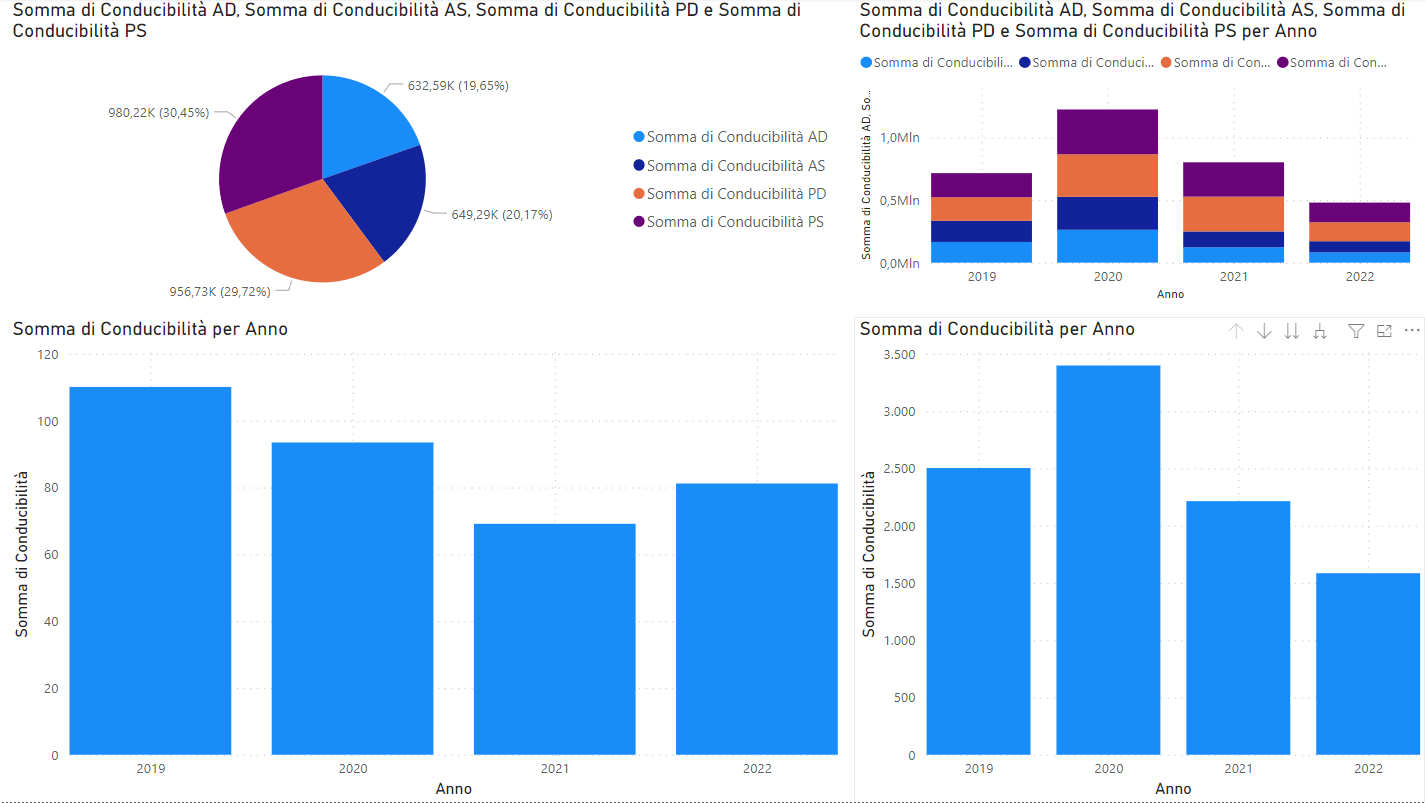

This screenshot's page, from the dashboard's own definition file:
{"tool":"powerbi","page":{"name":"Conducibilità","canvas":[1280,720],"ordinal":1},"visuals":[{"type":"pieChart","fields":{"Y":["Sum(Informazioni_generali.Conducibilità AD)","Sum(Informazioni_generali.Conducibilità AS)","Sum(Informazioni_generali.Conducibilità PD)","Sum(Informazioni_generali.Conducibilità PS)"]},"box":[9.5,0,749,285.6],"z":0},{"type":"columnChart","fields":{"Category":["Informazioni_generali.Anno.Variazione.Gerarchia data.Anno","Informazioni_generali.Anno.Variazione.Gerarchia data.Trimestre","Informazioni_generali.Anno.Variazione.Gerarchia data.Mese","Informazioni_generali.Anno.Variazione.Gerarchia data.Giorno"],"Y":["Sum(Informazioni_generali.Conducibilità AD)","Sum(Informazioni_generali.Conducibilità AS)","Sum(Informazioni_generali.Conducibilità PD)","Sum(Informazioni_generali.Conducibilità PS)"]},"box":[768,0,502.5,276.1],"z":1000},{"type":"columnChart","fields":{"Category":["Informazioni_per_animale_univoc.Anno.Variazione.Gerarchia data.Anno","Informazioni_per_animale_univoc.Anno.Variazione.Gerarchia data.Trimestre","Informazioni_per_animale_univoc.Anno.Variazione.Gerarchia data.Mese","Informazioni_per_animale_univoc.Anno.Variazione.Gerarchia data.Giorno"],"Y":["Sum(Informazioni_per_animale_univoc.Conducibilità)"]},"box":[768,285.6,512,435],"z":2000},{"type":"columnChart","fields":{"Category":["Informazioni_per_animale_totali.Anno.Variazione.Gerarchia data.Anno","Informazioni_per_animale_totali.Anno.Variazione.Gerarchia data.Trimestre","Informazioni_per_animale_totali.Anno.Variazione.Gerarchia data.Mese","Informazioni_per_animale_totali.Anno.Variazione.Gerarchia data.Giorno"],"Y":["Sum(Informazioni_per_animale_totali.Conducibilità)"]},"box":[9.5,285.6,749,435],"z":3000}]}

Visuals, with their boxes in screenshot pixels (x1, y1, x2, y2), scaled from the page's 1280x720 canvas onto the 1425x803 screenshot:
pieChart - Sum(Informazioni_generali.Conducibilità AD) x Sum(Informazioni_generali.Conducibilità AS): {"left": 11, "top": 0, "right": 844, "bottom": 319}
columnChart - Informazioni_generali.Anno.Variazione.Gerarchia data.Anno x Informazioni_generali.Anno.Variazione.Gerarchia data.Trimestre: {"left": 855, "top": 0, "right": 1414, "bottom": 308}
columnChart - Informazioni_per_animale_univoc.Anno.Variazione.Gerarchia data.Anno x Informazioni_per_animale_univoc.Anno.Variazione.Gerarchia data.Trimestre: {"left": 855, "top": 319, "right": 1424, "bottom": 802}
columnChart - Informazioni_per_animale_totali.Anno.Variazione.Gerarchia data.Anno x Informazioni_per_animale_totali.Anno.Variazione.Gerarchia data.Trimestre: {"left": 11, "top": 319, "right": 844, "bottom": 802}
